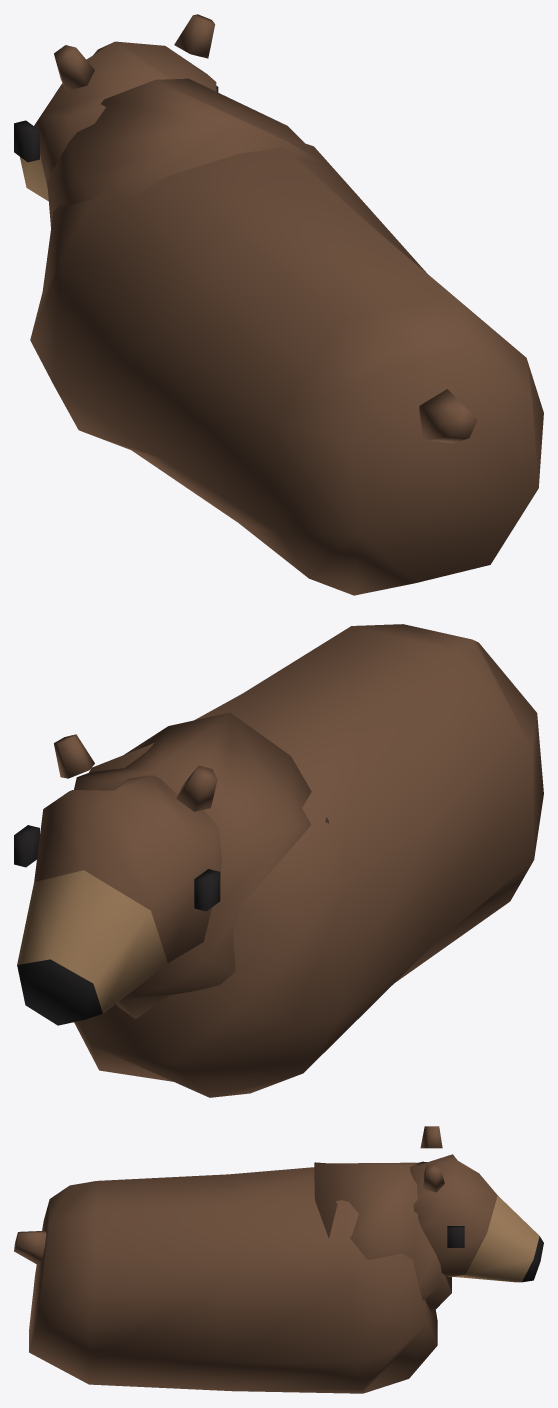
File: animal_bear_grizzly.obj
3 views of the same model, one above another, from view 1: azimuth 30°, elevation 25°; view 2: azimuth 150°, elevation 25°; view 3: azimuth 270°, elevation 25° (orthographic). The views are drawn at different scales.
Visible parts, largest first — view 1: animal_bear_grizzly_component_00, animal_bear_grizzly_component_01, animal_bear_grizzly_component_02, animal_bear_grizzly_component_07, animal_bear_grizzly_component_05, animal_bear_grizzly_component_06, animal_bear_grizzly_component_03; view 2: animal_bear_grizzly_component_00, animal_bear_grizzly_component_02, animal_bear_grizzly_component_01, animal_bear_grizzly_component_05, animal_bear_grizzly_component_06, animal_bear_grizzly_component_03, animal_bear_grizzly_component_04; view 3: animal_bear_grizzly_component_00, animal_bear_grizzly_component_02, animal_bear_grizzly_component_01, animal_bear_grizzly_component_07, animal_bear_grizzly_component_06, animal_bear_grizzly_component_05, animal_bear_grizzly_component_04.
Part boxes in pixels (left/top/right/bottom): animal_bear_grizzly_component_00: left=30, top=129, right=543, bottom=595; animal_bear_grizzly_component_01: left=47, top=78, right=321, bottom=227; animal_bear_grizzly_component_02: left=20, top=41, right=216, bottom=201; animal_bear_grizzly_component_07: left=419, top=389, right=477, bottom=443; animal_bear_grizzly_component_05: left=54, top=45, right=94, bottom=91; animal_bear_grizzly_component_06: left=174, top=14, right=215, bottom=58; animal_bear_grizzly_component_03: left=14, top=120, right=39, bottom=162; animal_bear_grizzly_component_00: left=74, top=624, right=543, bottom=1097; animal_bear_grizzly_component_02: left=17, top=775, right=221, bottom=1025; animal_bear_grizzly_component_01: left=74, top=712, right=328, bottom=1019; animal_bear_grizzly_component_05: left=176, top=765, right=217, bottom=811; animal_bear_grizzly_component_06: left=54, top=734, right=94, bottom=778; animal_bear_grizzly_component_03: left=194, top=869, right=220, bottom=911; animal_bear_grizzly_component_04: left=14, top=825, right=39, bottom=867; animal_bear_grizzly_component_00: left=29, top=1167, right=437, bottom=1393; animal_bear_grizzly_component_02: left=410, top=1154, right=543, bottom=1282; animal_bear_grizzly_component_01: left=314, top=1162, right=451, bottom=1313; animal_bear_grizzly_component_07: left=14, top=1230, right=46, bottom=1265; animal_bear_grizzly_component_06: left=422, top=1163, right=444, bottom=1192; animal_bear_grizzly_component_05: left=420, top=1126, right=442, bottom=1148; animal_bear_grizzly_component_04: left=447, top=1226, right=464, bottom=1247.
Bounding box in the file's own units: 0.6486 × 0.8007 × 1.67.
